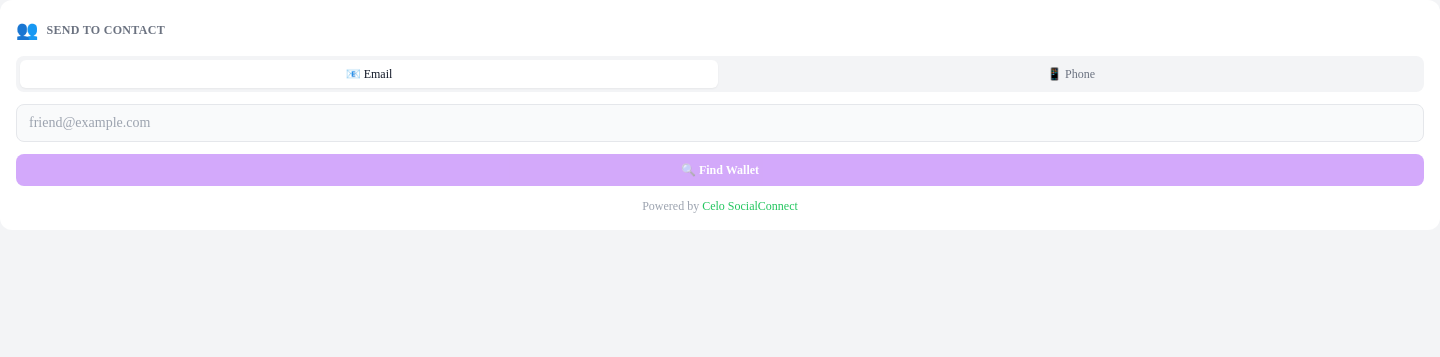
Test: SocialContactPicker › shows amount in success state when provided
In the field with placeholder "friend@example.com": (720, 123) [16, 104, 1424, 142], type "test@example.com"
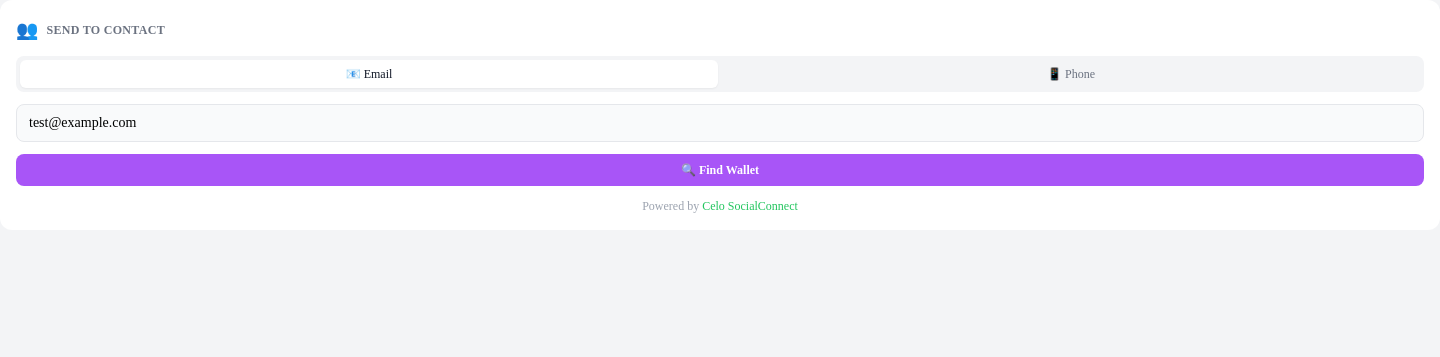
Click the button "🔍 Find Wallet": click(720, 170) [16, 154, 1424, 186]
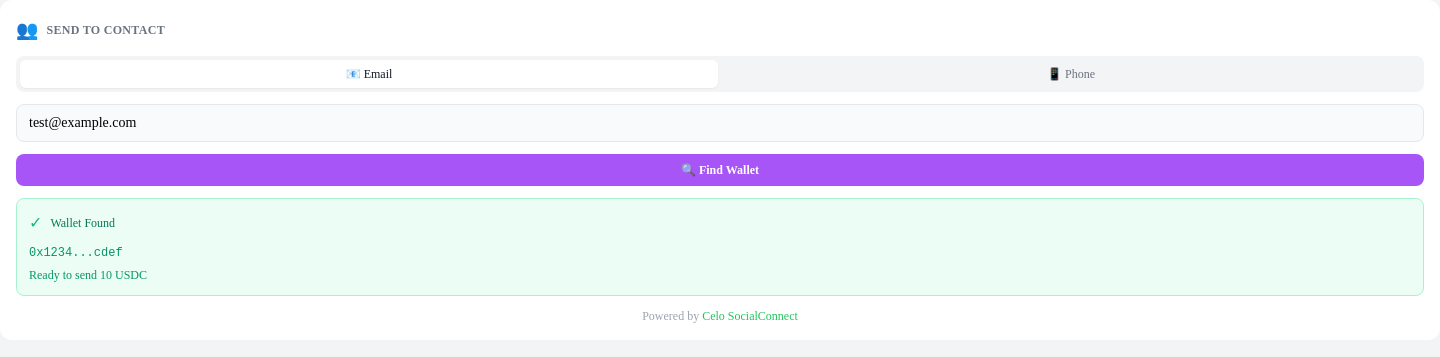
Expected: the text "Wallet Found" is shown, [50, 215, 115, 231]
